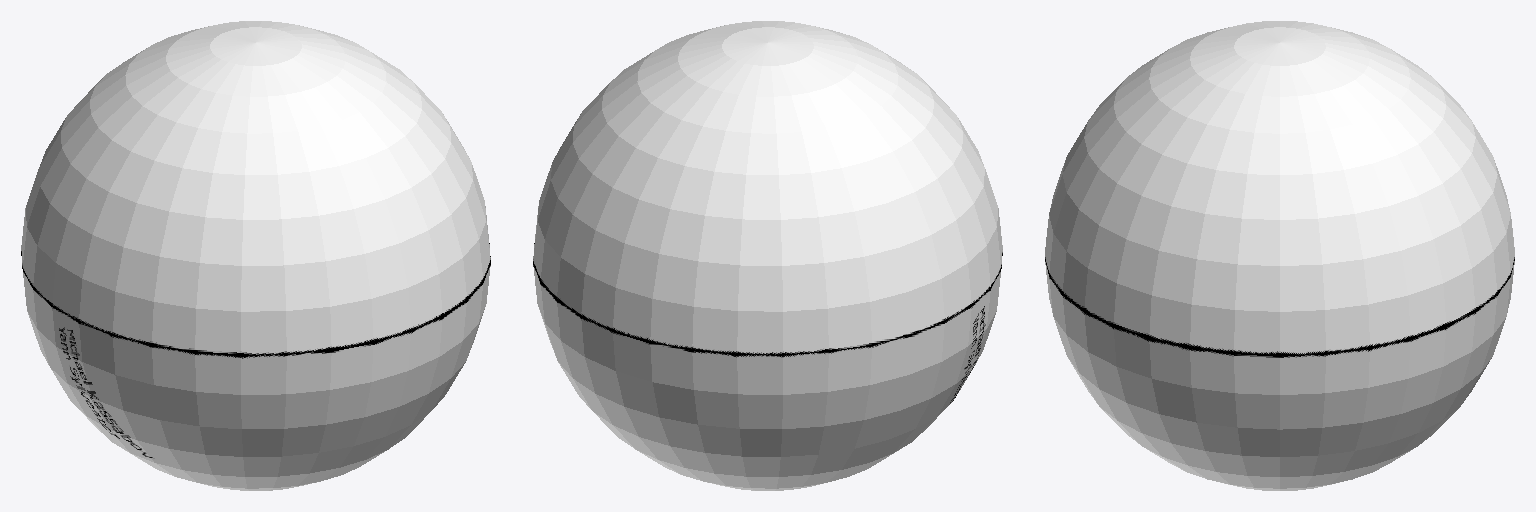
3 renders of one model, left to right at view 1: azimuth 30°, elevation 25°; view 2: azimuth 150°, elevation 25°; view 3: azimuth 270°, elevation 25°, orthographic.
Visible parts, largest first — view 1: Sphere; view 2: Sphere; view 3: Sphere.
Boxes of the visible parts, box(x1,y1,x2,y2) form: Sphere: box(21, 21, 490, 490); Sphere: box(533, 21, 1002, 490); Sphere: box(1045, 21, 1514, 490).
Size of the model in its own units: 2 by 2 by 2.
Materials: 1 (1 with a texture image).